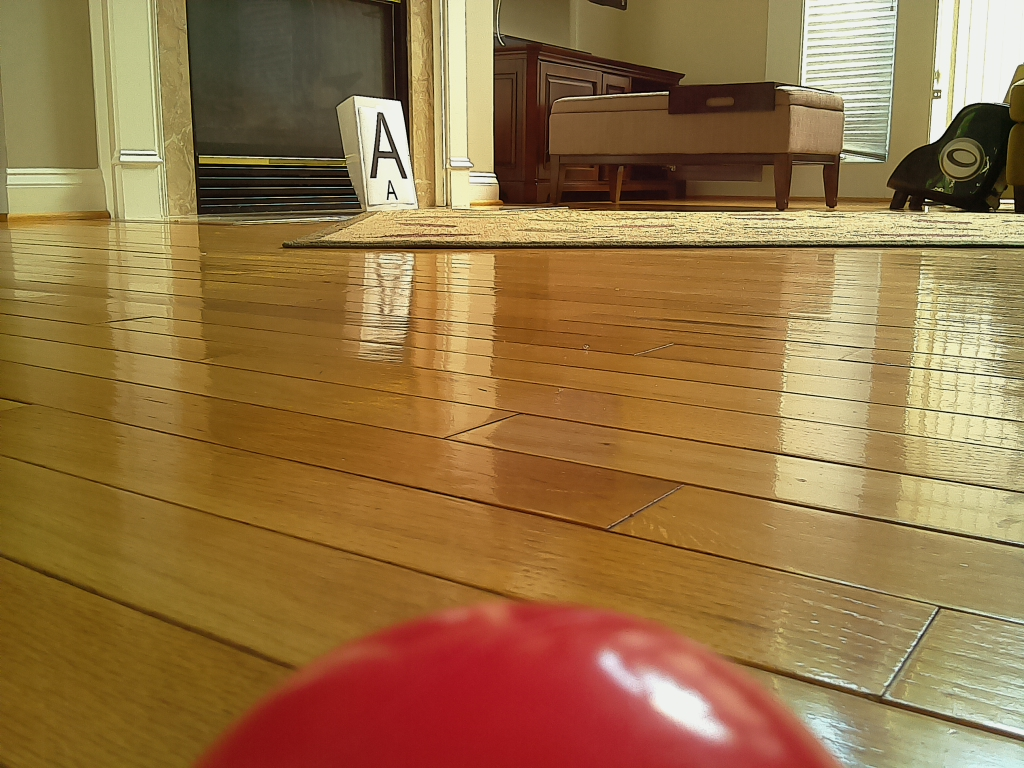letter: (368, 111, 411, 180)
